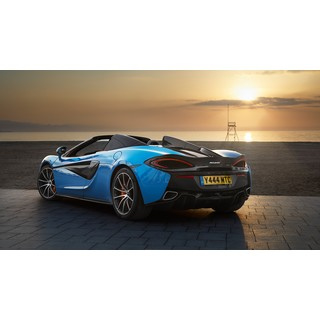car: (37, 134, 252, 222)
